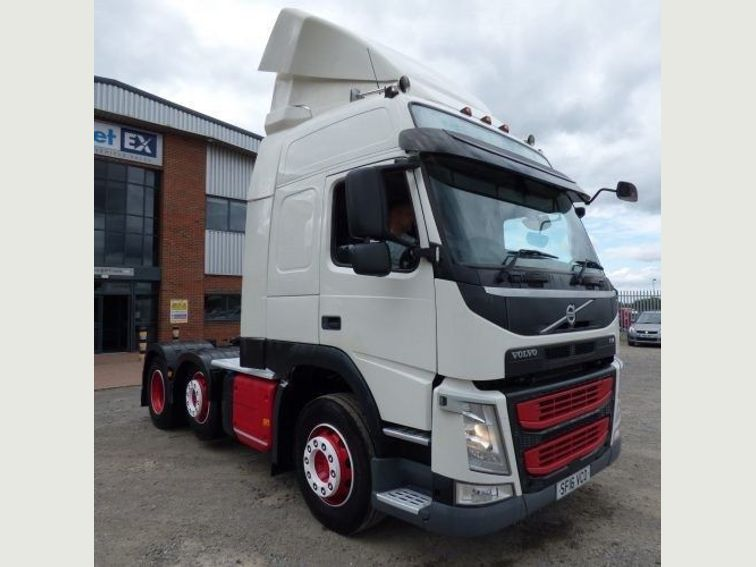Car: (628, 310, 661, 347)
Semi: (140, 8, 636, 537)
